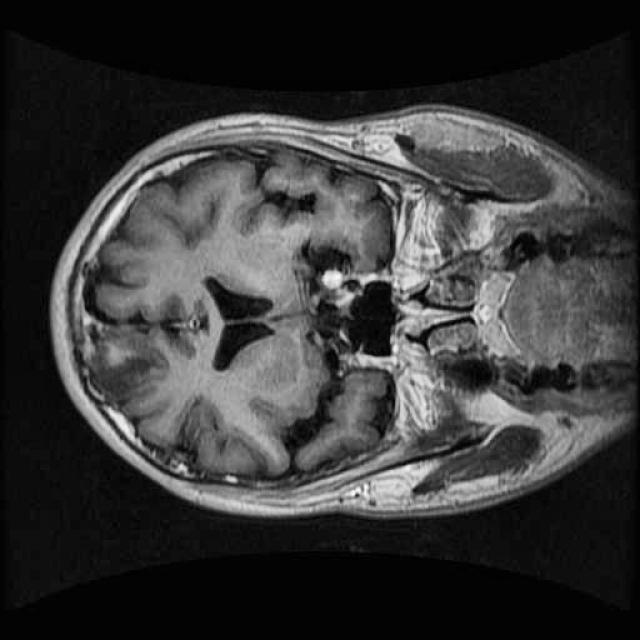Non-Tumor: (74, 306, 180, 416)
